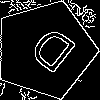D: (20, 24, 79, 83)
